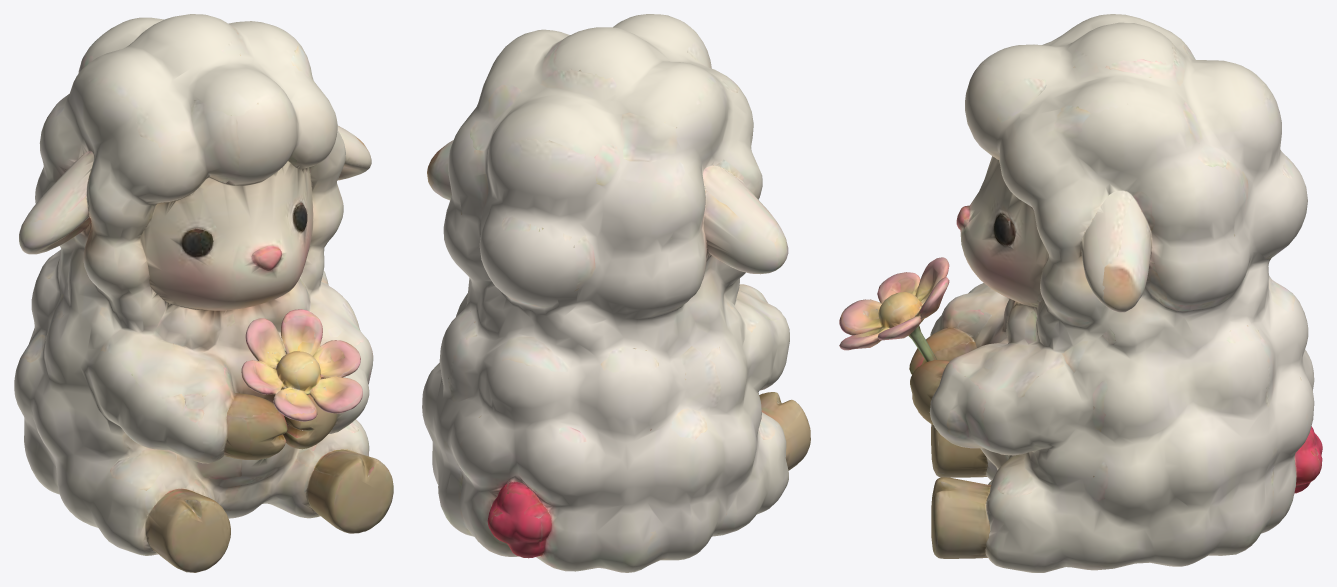
The picture shows the model from 3 angles, left to right: view 1: azimuth 30°, elevation 25°; view 2: azimuth 150°, elevation 25°; view 3: azimuth 270°, elevation 25°; orthographic projection. The views are drawn at different scales.
Size of the model in its own units: 1.53 by 2 by 1.78.
1 material, 1 textured.
